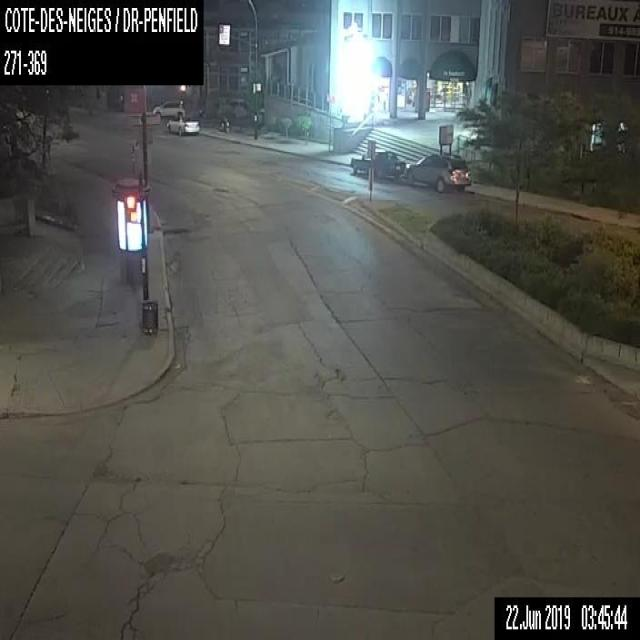vehicle: (404, 152, 471, 193), (350, 146, 406, 178), (166, 112, 200, 134), (152, 99, 185, 117)
